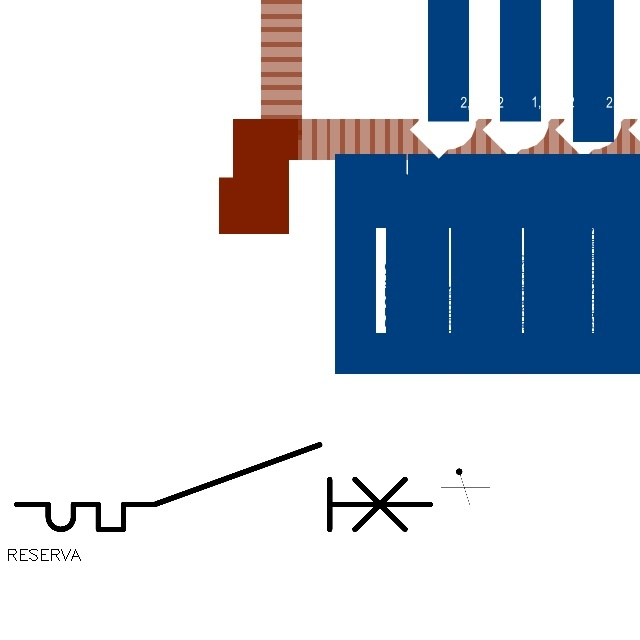interruptor_termomagnetico: (6, 434, 441, 540)
